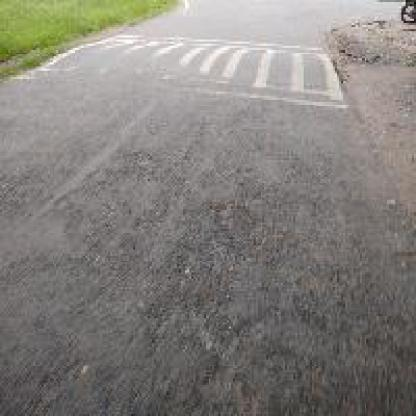Speed Bump: (29, 40, 337, 110)
